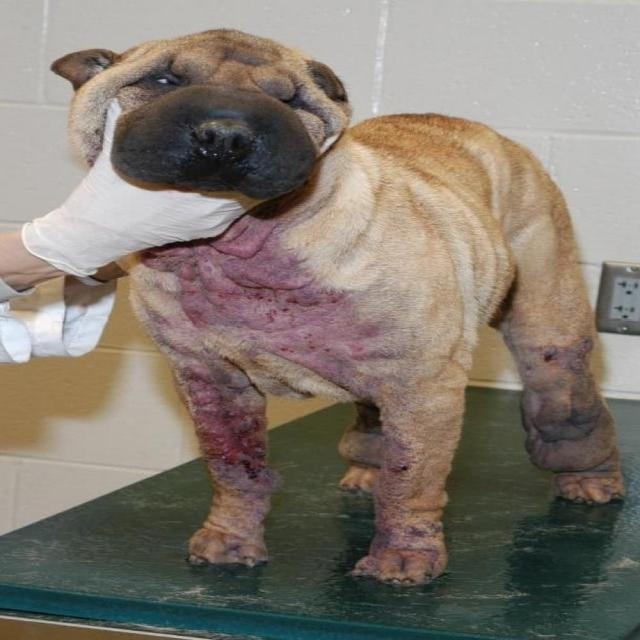allergic dermatitis: (134, 222, 379, 381), (166, 347, 275, 504)
